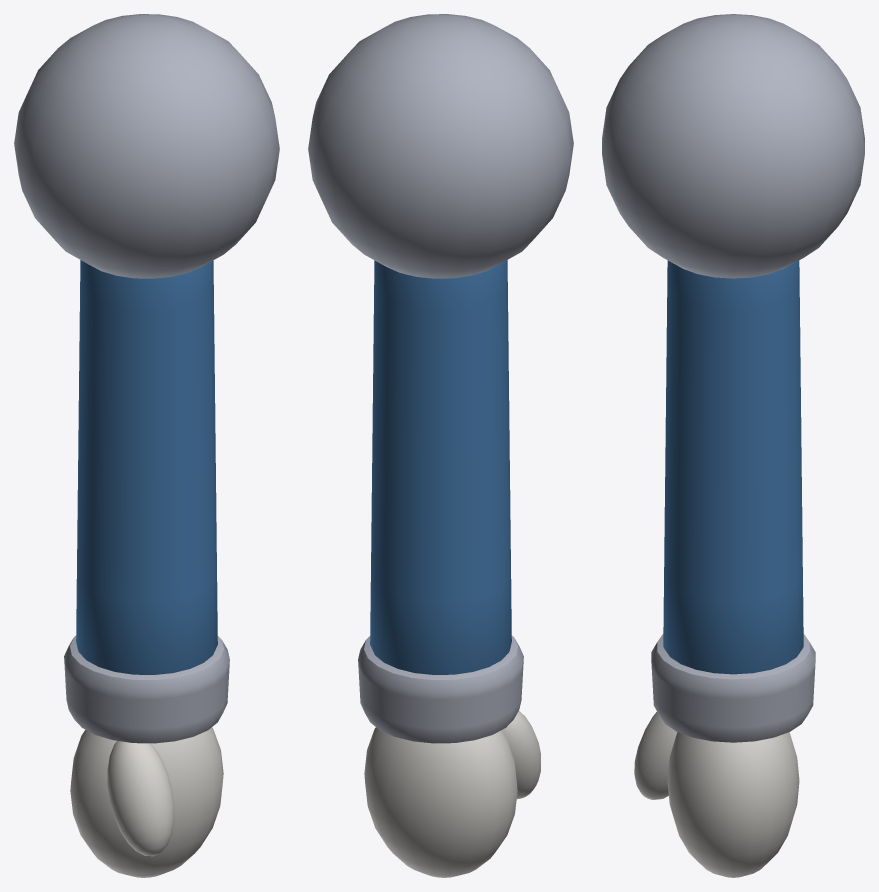
The model's file is Arm_Minion_R.fbx.
The picture shows the model from 3 angles, left to right: view 1: azimuth 30°, elevation 25°; view 2: azimuth 150°, elevation 25°; view 3: azimuth 270°, elevation 25°; orthographic projection.
Parts seen in each view (by area): view 1: Arm_Minion_R; view 2: Arm_Minion_R; view 3: Arm_Minion_R.
Boxes of the visible parts, box(x1,y1,x2,y2) form: Arm_Minion_R: box(14, 14, 279, 877); Arm_Minion_R: box(308, 14, 573, 877); Arm_Minion_R: box(602, 14, 864, 877).
Bounding box in the file's own units: 0.0413 × 0.145 × 0.0408.
